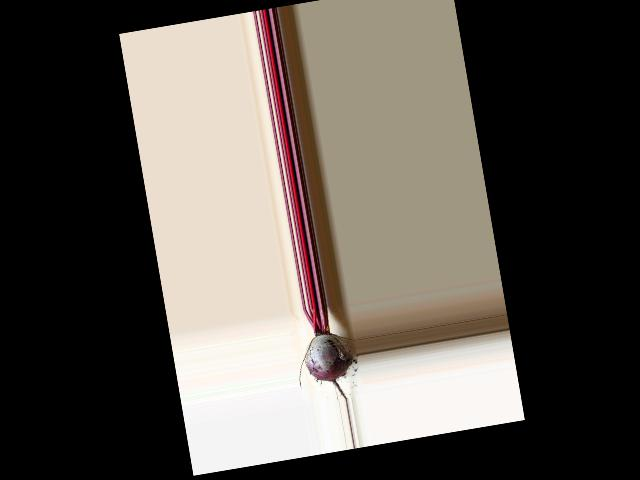beet: (288, 303, 358, 407)
